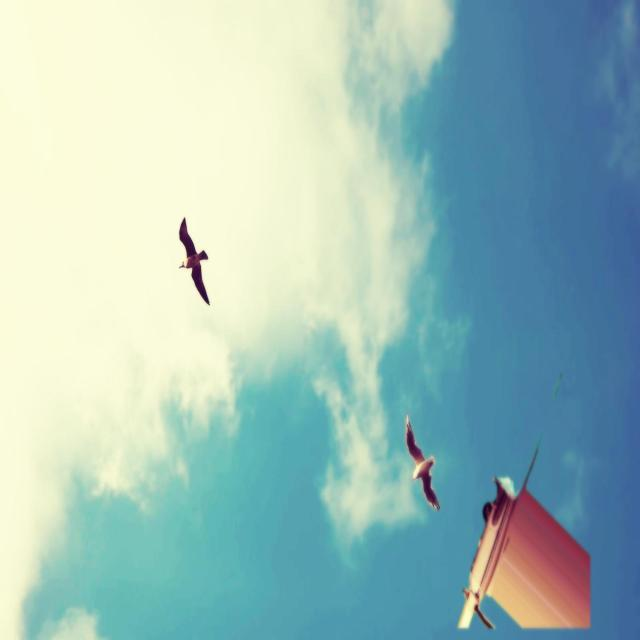airplane: (457, 436, 591, 631)
